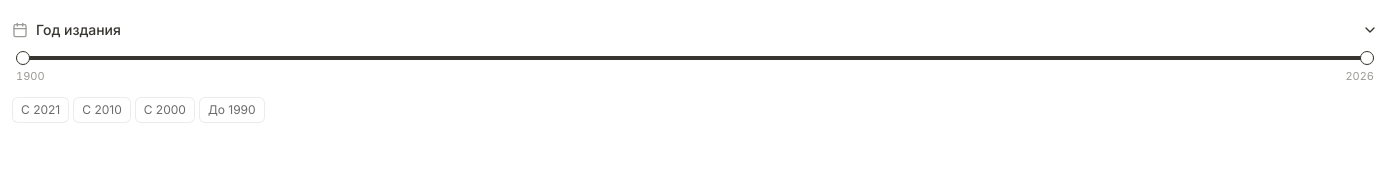
Test: YearRangeSection › collapses content when the header is clicked
The width and height of the screenshot is (1390, 172).
Expected: the button "С 2010" is shown, [73,96,131,122]
Click the button "Год издания". click: (78, 30)
box: [12,12,1378,48]
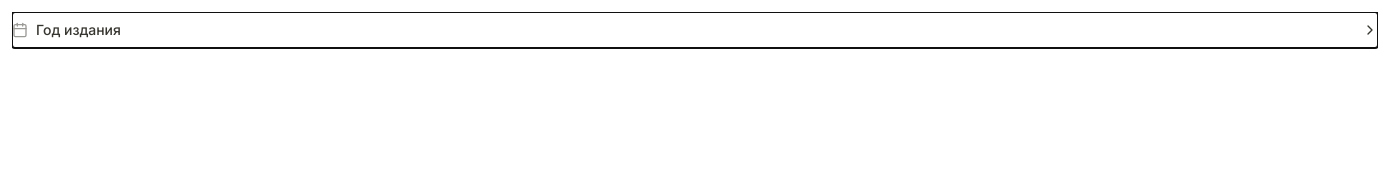
Expected: the button "С 2010" is gone
